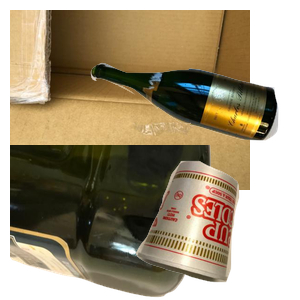cardboard: (10, 10, 250, 190)
glass: (88, 60, 300, 193)
plastic: (10, 145, 213, 300)
trash: (133, 158, 300, 300)
